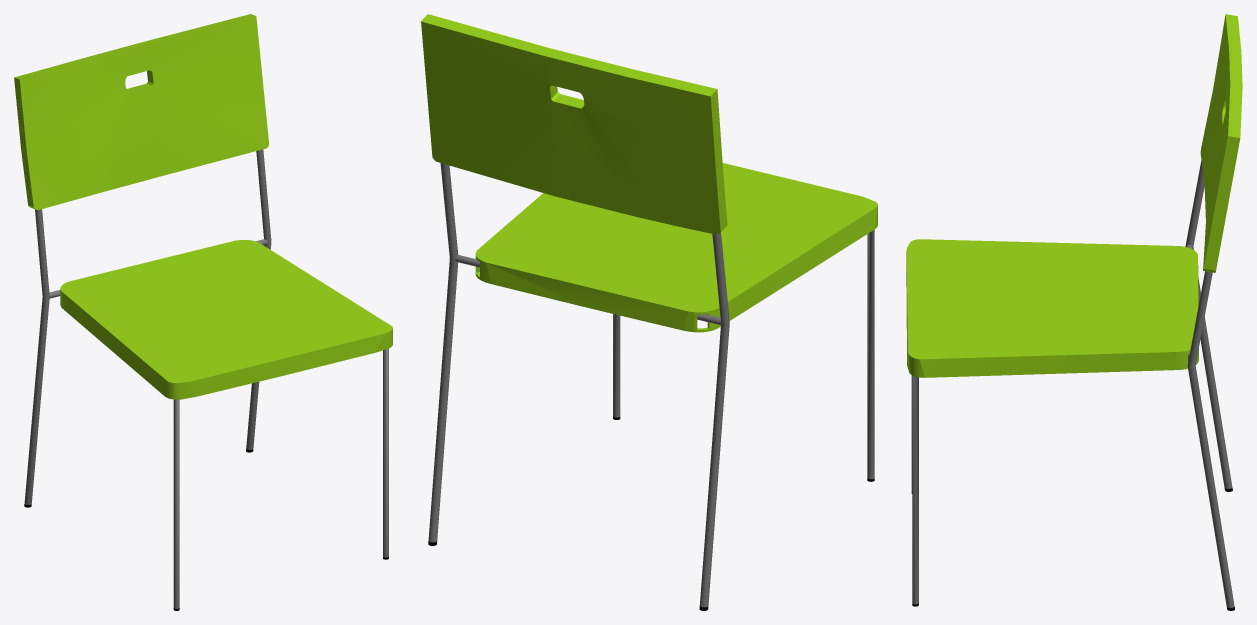
The model's file is IKEA-IKEA_Herman_Chair-3D.FBX.
The picture shows the model from 3 angles, left to right: view 1: azimuth 30°, elevation 25°; view 2: azimuth 150°, elevation 25°; view 3: azimuth 270°, elevation 25°; orthographic projection. The views are drawn at different scales.
Visible parts, largest first — view 1: Loft05; view 2: Loft05; view 3: Loft05.
Boxes of the visible parts, bbox=[...] form: Loft05: bbox=[14, 14, 392, 610]; Loft05: bbox=[421, 14, 877, 610]; Loft05: bbox=[906, 14, 1242, 610].
Bounding box in the file's own units: 0.4542 × 0.5042 × 0.7878.
